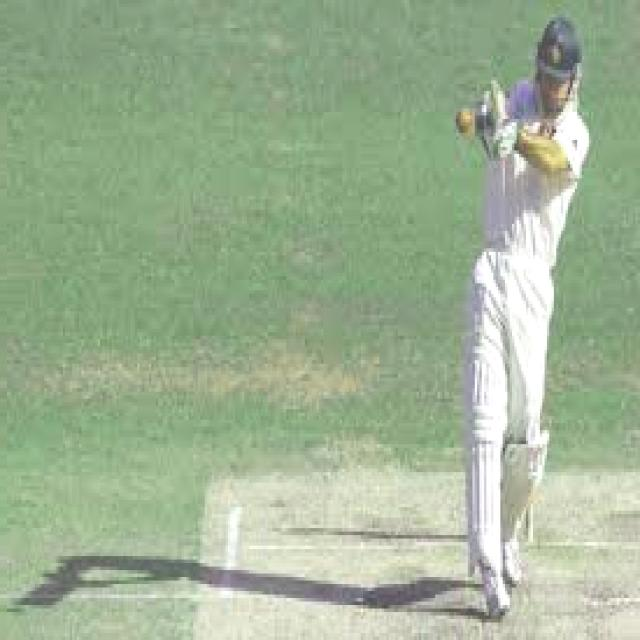toe: (478, 75, 504, 121)
